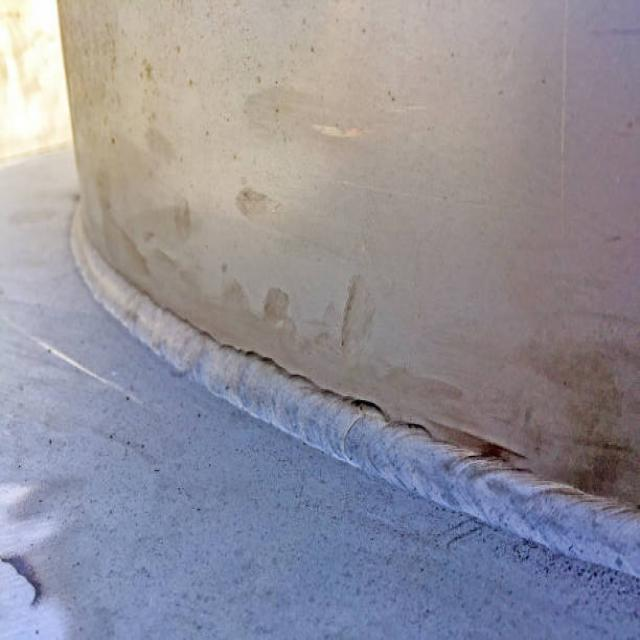Defect: (162, 296, 524, 468)
